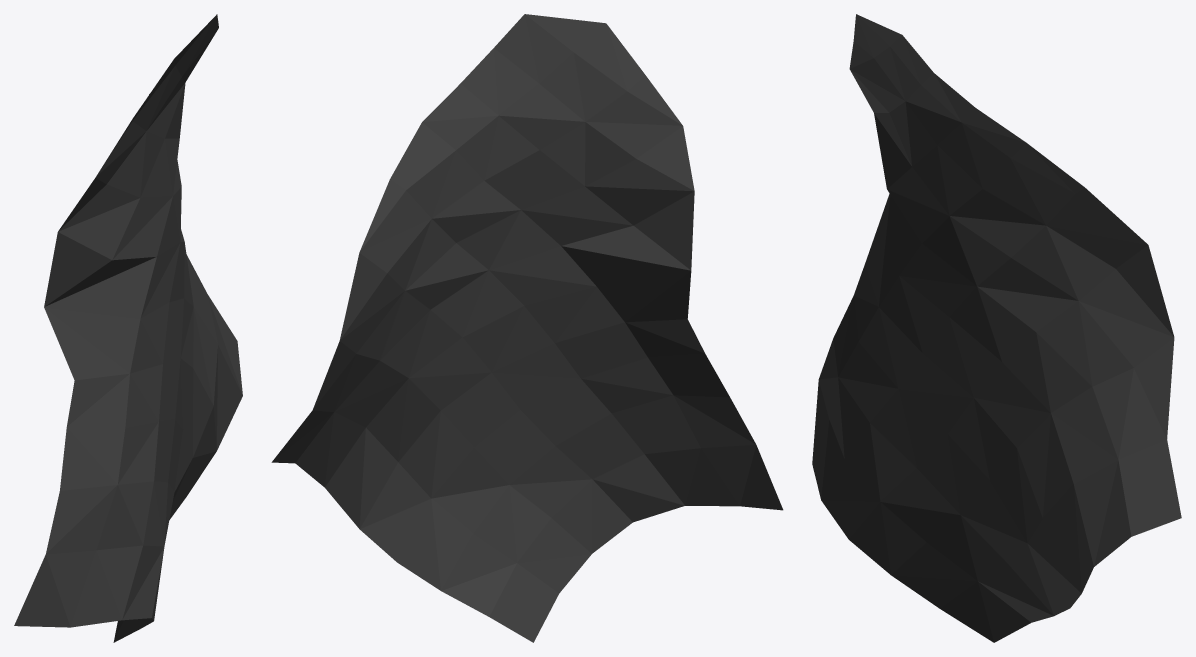
The model's file is eq_dist_limb_Med_Palmar_Artery.glb.
3 renders of one model, left to right at view 1: azimuth 30°, elevation 25°; view 2: azimuth 150°, elevation 25°; view 3: azimuth 270°, elevation 25°, orthographic. The views are drawn at different scales.
Visible parts, largest first — view 1: eq_dist_limb_Med_Palmar_Artery; view 2: eq_dist_limb_Med_Palmar_Artery; view 3: eq_dist_limb_Med_Palmar_Artery.
Boxes of the visible parts, x1,y1,x2,y2 form: eq_dist_limb_Med_Palmar_Artery: [14, 14, 242, 642]; eq_dist_limb_Med_Palmar_Artery: [271, 14, 783, 642]; eq_dist_limb_Med_Palmar_Artery: [812, 14, 1181, 642].
Bounding box in the file's own units: 0.00125 × 0.00202 × 0.00107.
Materials: 1 (1 with a texture image).
